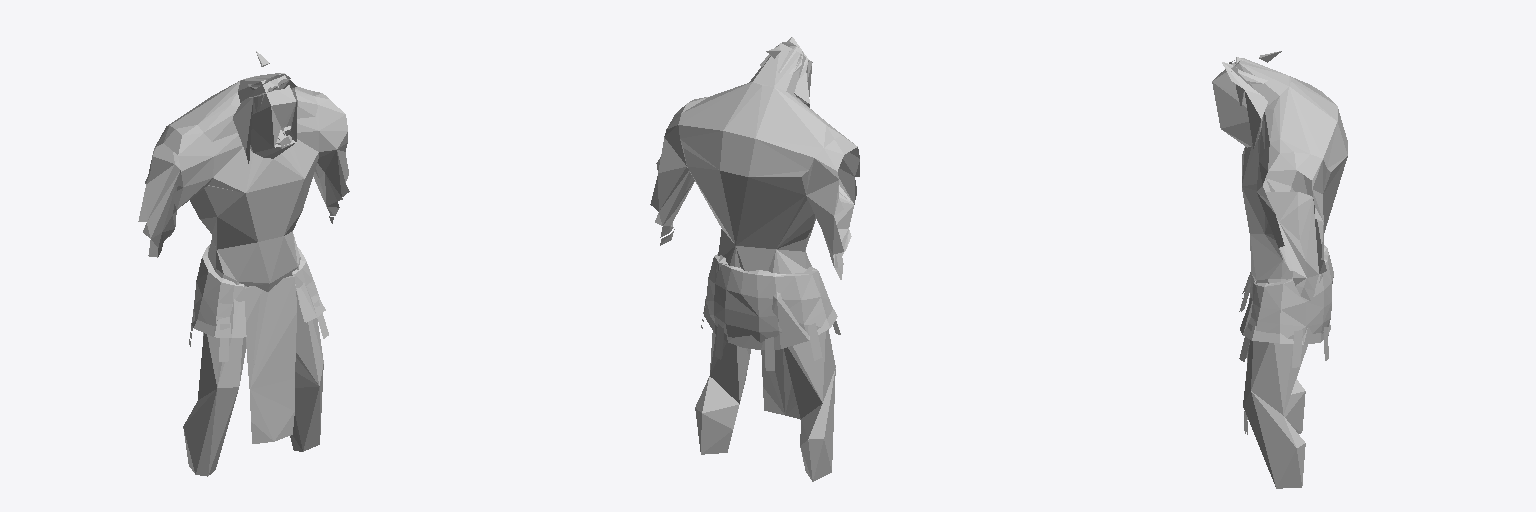
Rendered from ZombieTorsoLow.obj.
3 renders of one model, left to right at view 1: azimuth 30°, elevation 25°; view 2: azimuth 150°, elevation 25°; view 3: azimuth 270°, elevation 25°, orthographic.
Visible parts, largest first — view 1: ZombieTorso:Mesh; view 2: ZombieTorso:Mesh; view 3: ZombieTorso:Mesh.
Boxes of the visible parts, <box> form: ZombieTorso:Mesh: <box>138,51,349,476</box>; ZombieTorso:Mesh: <box>650,37,859,481</box>; ZombieTorso:Mesh: <box>1212,51,1347,488</box>.
Bounding box in the file's own units: 1.69 × 3.42 × 1.03.